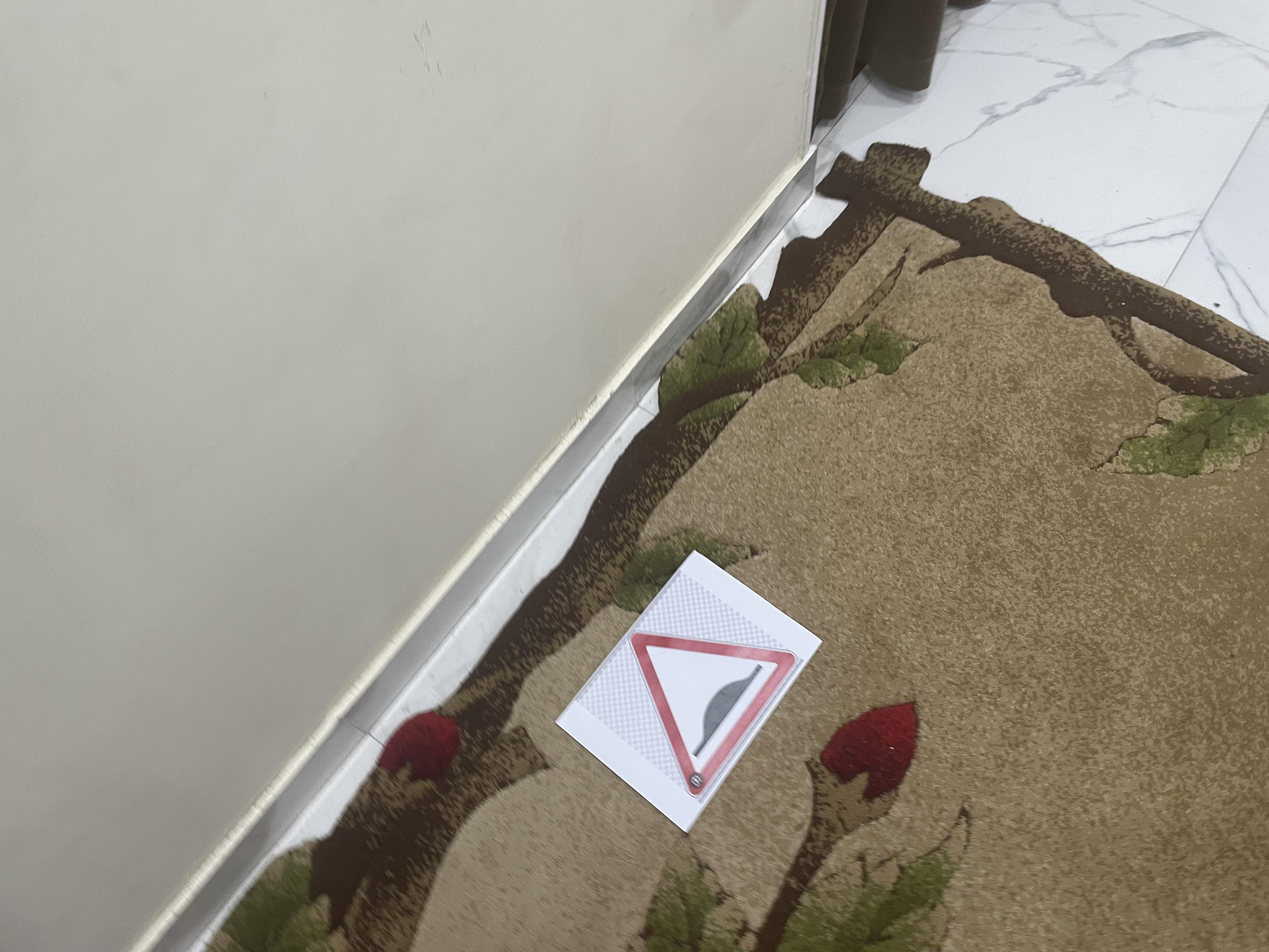Hump: (197, 463, 458, 600)
